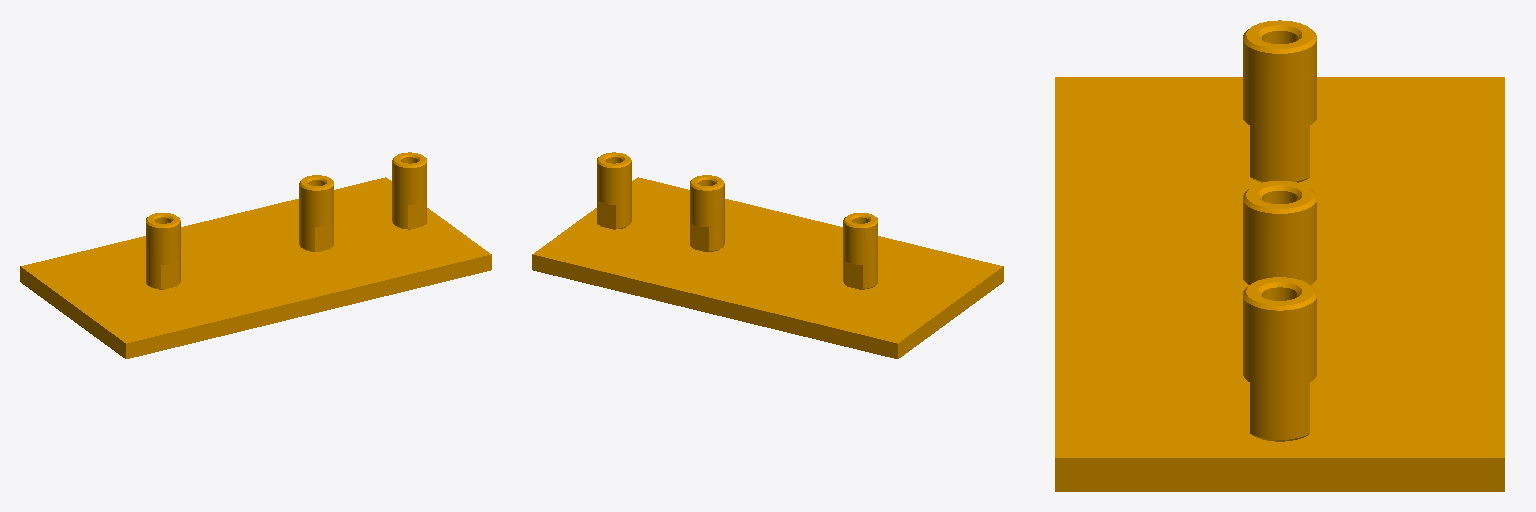
URDF robot description (factory_gear_base_loose):
<?xml version="1.0"?>
<robot name="factory_gear_base_loose">
    <link name="factory_gear_base_loose">
        <visual>
            <geometry>
                <mesh filename="../mesh/factory_gears/factory_gear_base_loose_space_5e-4_subdiv_4x.obj"/>
            </geometry>
        </visual>
        <collision>
            <geometry>
                <mesh filename="../mesh/factory_gears/factory_gear_base_loose_space_5e-4_subdiv_4x.obj"/>
            </geometry>
            <sdf resolution="256"/>
        </collision>
    </link>
</robot>

--- Render facts (derived) ---
Views: 3 orthographic renders of the robot side by side, from view 1: azimuth 30°, elevation 25°; view 2: azimuth 150°, elevation 25°; view 3: azimuth 270°, elevation 25°.
Robot: factory_gear_base_loose — 1 links, 0 joints (none); root link factory_gear_base_loose; default pose: every joint at zero.
Links seen in each view (by area): view 1: factory_gear_base_loose; view 2: factory_gear_base_loose; view 3: factory_gear_base_loose.
Link boxes in pixels (x1,y1,x2,y2): factory_gear_base_loose: (20, 152, 491, 358); factory_gear_base_loose: (532, 152, 1003, 358); factory_gear_base_loose: (1055, 20, 1504, 491).
Size in the robot's own frame: 0.12 by 0.06 by 0.025 metres.
1 mesh visuals loaded from 1 distinct referenced files (1 OBJ).